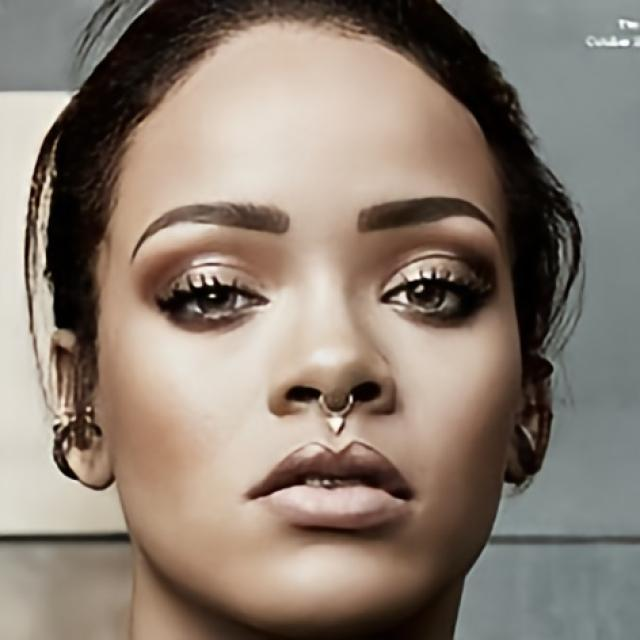neutral: (93, 21, 521, 632)
